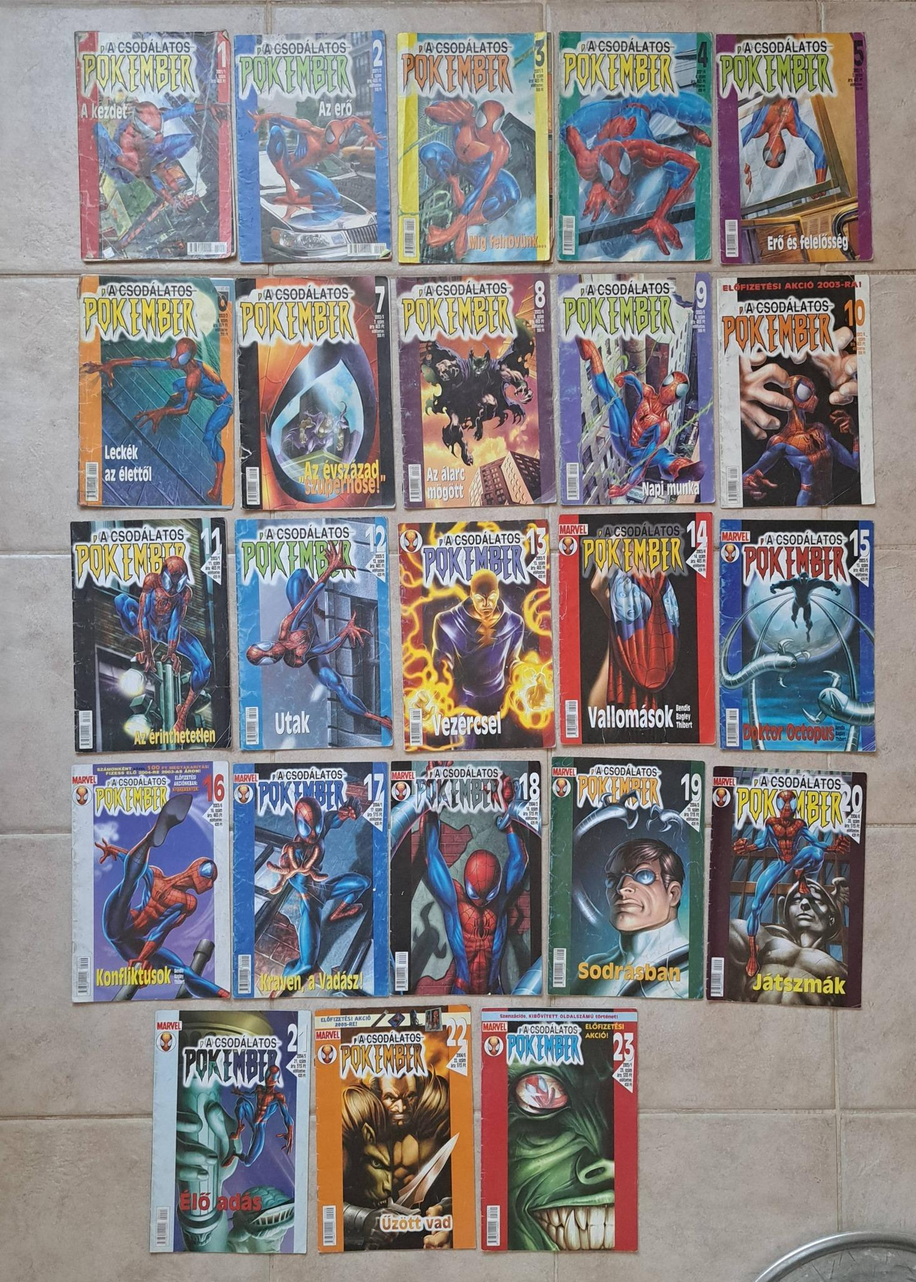comic: (149, 1004, 311, 1255), (314, 1006, 474, 1252), (548, 756, 706, 1000), (396, 271, 557, 510), (72, 758, 230, 1001), (71, 516, 231, 755), (707, 765, 865, 1007), (481, 1008, 636, 1251), (75, 27, 235, 262), (715, 274, 874, 509), (556, 272, 715, 507), (235, 514, 392, 751), (237, 275, 394, 512), (397, 518, 555, 753), (233, 761, 387, 999), (558, 512, 715, 744), (390, 759, 542, 998), (716, 32, 871, 265), (235, 30, 390, 263), (720, 520, 875, 751), (79, 277, 234, 508), (397, 33, 551, 264), (559, 31, 711, 262)
